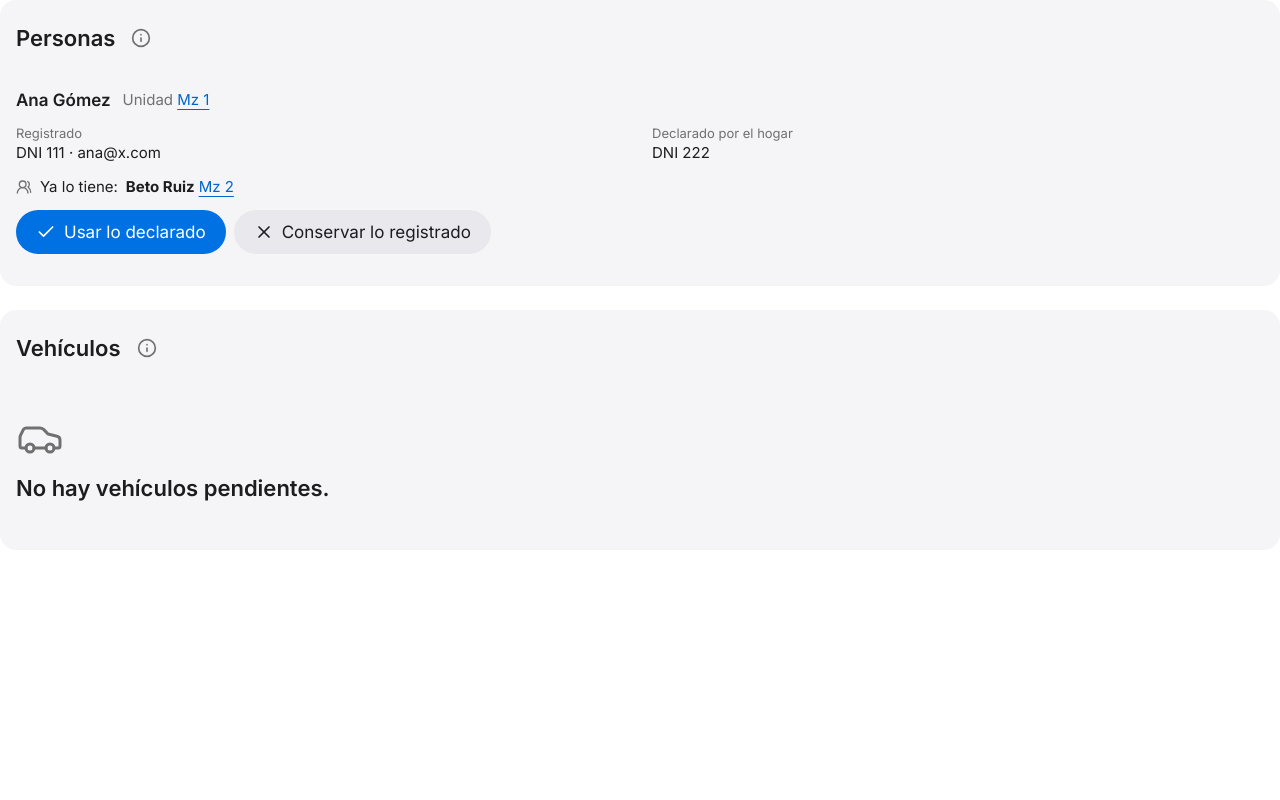
VerificationLists › resolves a person either way and shows the database refusal in words
What coordinates should you click on to do the following:
click the button with aria-label "Usar los datos declarados de Ana Gómez"
I would click on:
 (121, 232)
Its box is [16,210,226,254].
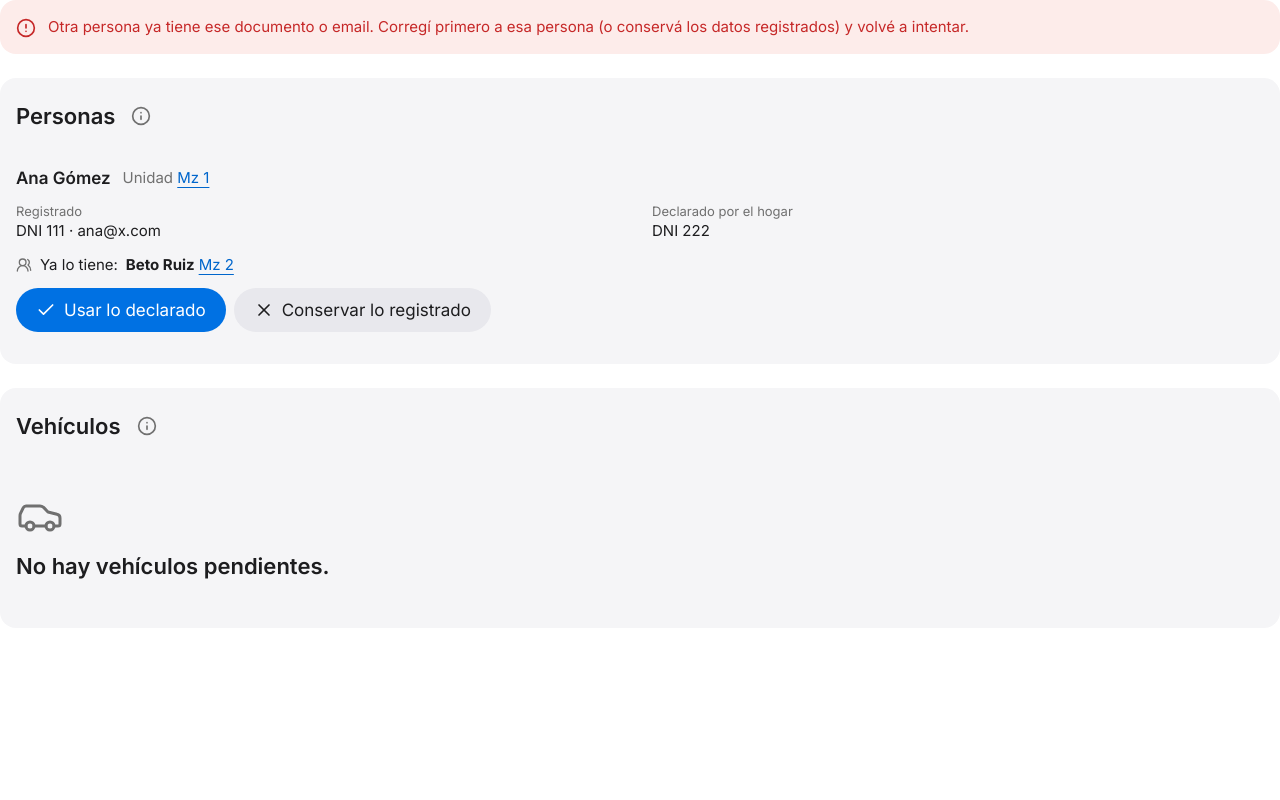
Result: the text "Otra persona ya tiene ese documento o email" is shown at [48,17,969,36]
// The previous call is still settling: buttons are disabled until it ends.
What coordinates should you click on to do the following:
click the button with aria-label "Conservar los datos registrados de Ana Gómez"
I would click on:
 (362, 310)
Its box is [234,288,491,332].
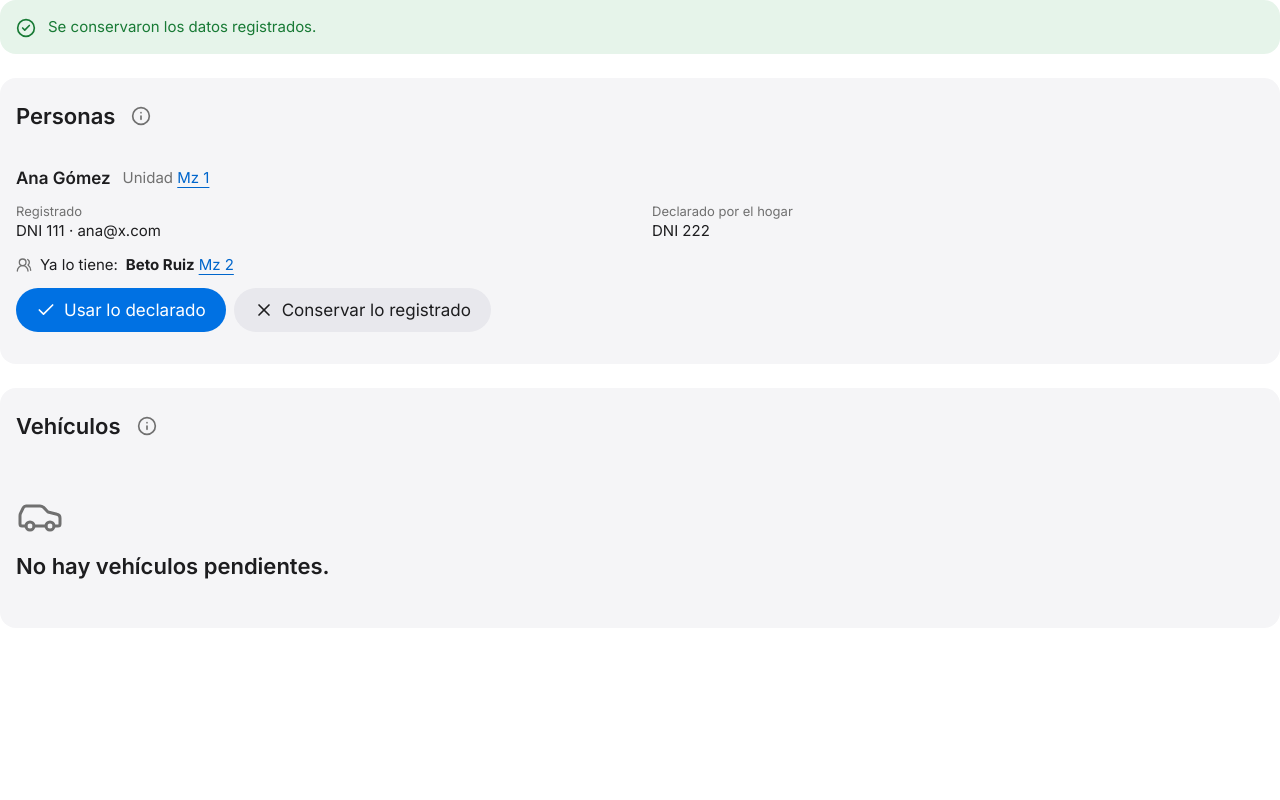
Result: the text "Se conservaron los datos registrados." is shown at [48,16,316,38]
